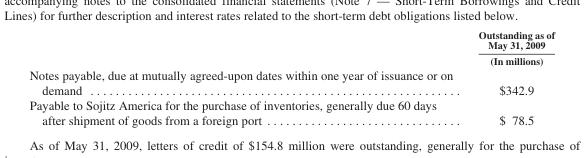table: (28, 28, 554, 127)
table column: (28, 28, 465, 127), (465, 28, 554, 127)
table column header: (28, 28, 554, 66)
table row: (28, 28, 554, 66), (28, 66, 554, 97), (28, 97, 554, 127)
